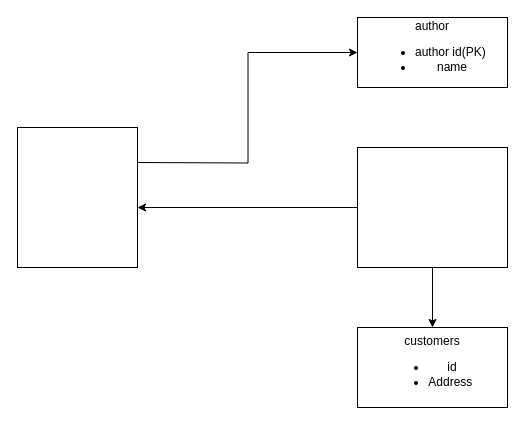
This 525x425 diagram has some shape labels left out. The shapes that lost their labels are listed below. From the top down, each one's centre as x and y in pixels, then its label:
[77,197]: Book book Id (PK) author id (FK) title
[432,207]: transaction transaction id (PK) customer id (FK) amount date book id
